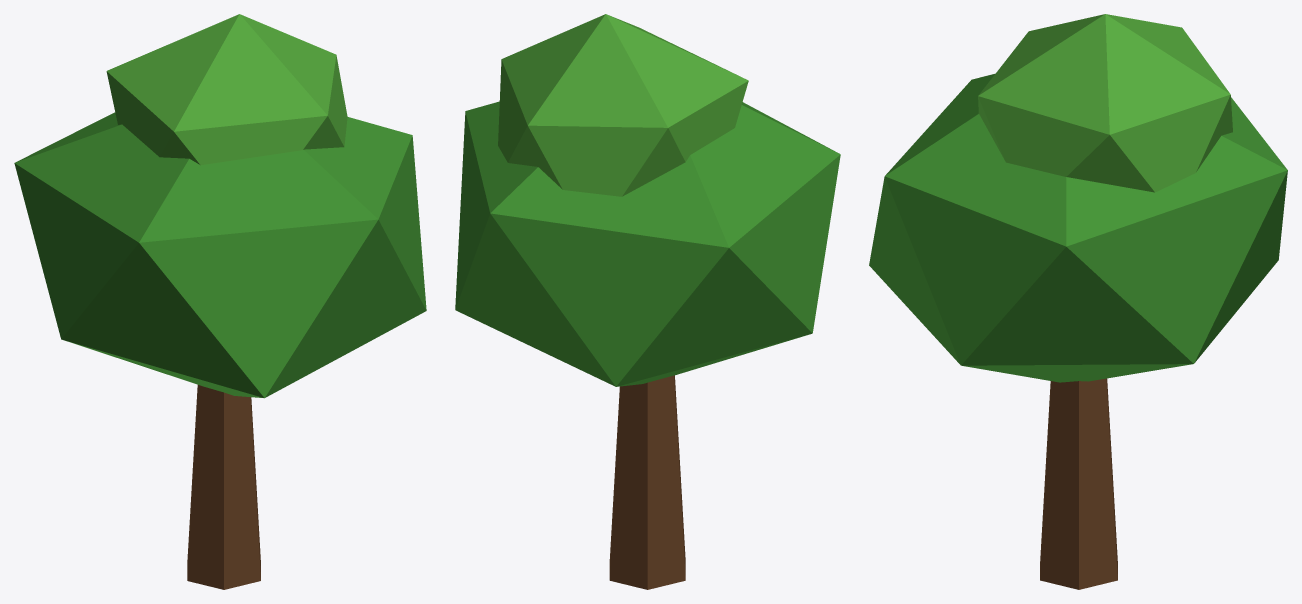
The model's file is tree_oak.glb.
The picture shows the model from 3 angles, left to right: view 1: azimuth 30°, elevation 25°; view 2: azimuth 150°, elevation 25°; view 3: azimuth 270°, elevation 25°; orthographic projection. The views are drawn at different scales.
Parts seen in each view (by area): view 1: tree_oak; view 2: tree_oak; view 3: tree_oak.
Part boxes in pixels (<box>): tree_oak: <box>14,14,426,589</box>; tree_oak: <box>455,14,840,589</box>; tree_oak: <box>869,14,1287,589</box>.
Size of the model in its own units: 3.15 by 4.75 by 3.16.
